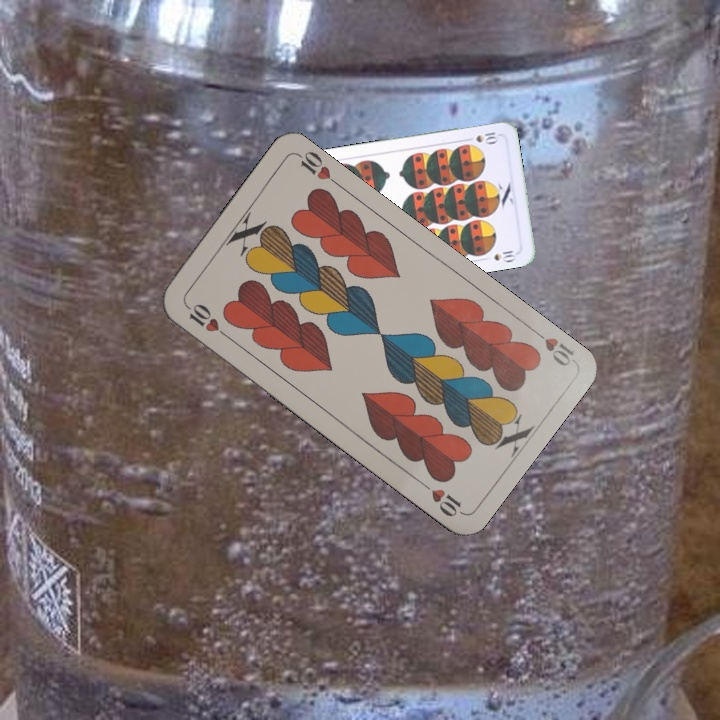H10: (527, 324, 577, 369), (181, 299, 232, 341)
S10: (461, 126, 502, 146)
